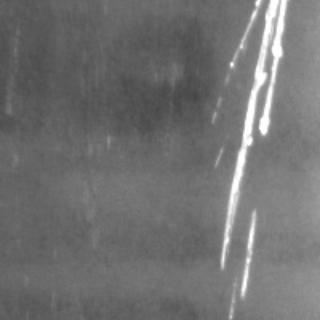scratches: (210, 0, 286, 270), (226, 192, 260, 316)
